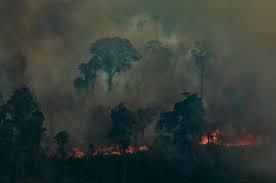fire: (46, 68, 158, 181), (181, 71, 275, 167)
